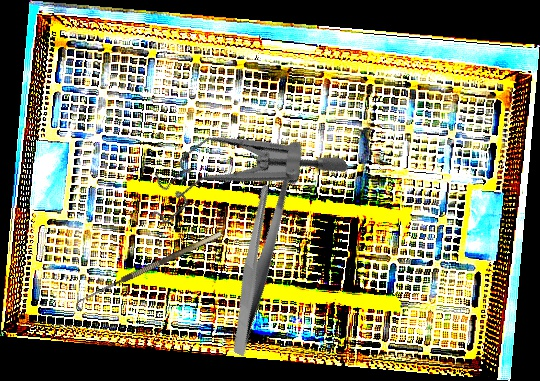Dressing Forceps: (187, 170, 328, 358)
Hook Surgical: (74, 231, 226, 312)
Speculum: (131, 77, 351, 280)
